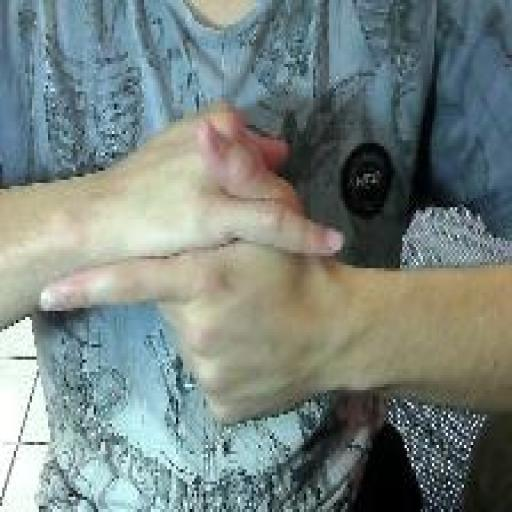U -hare-: (34, 96, 348, 434)
